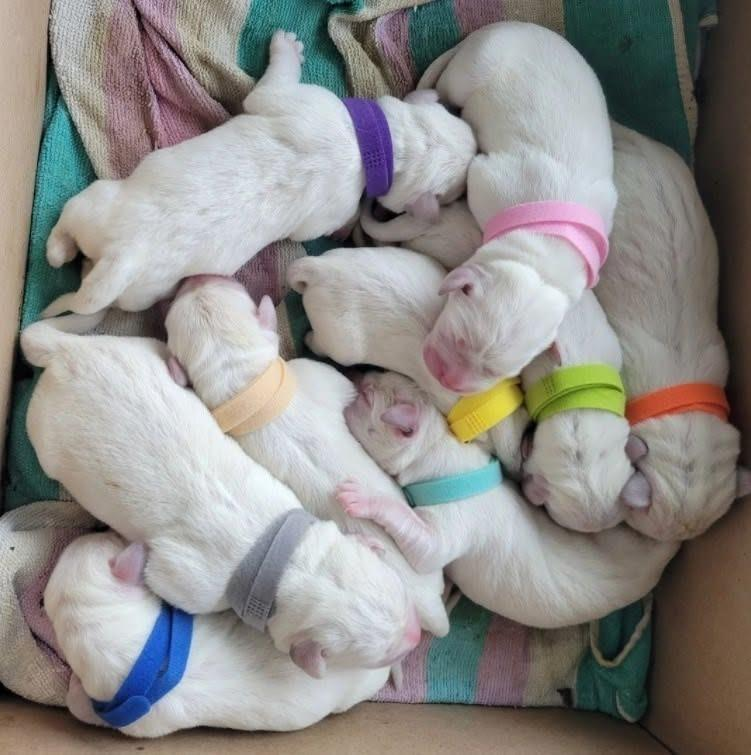puppy-dog: (17, 315, 426, 679), (45, 28, 478, 318), (164, 274, 454, 638), (338, 375, 688, 631), (409, 20, 619, 397), (40, 527, 398, 740), (603, 123, 748, 546), (285, 245, 528, 459), (514, 286, 642, 539)
